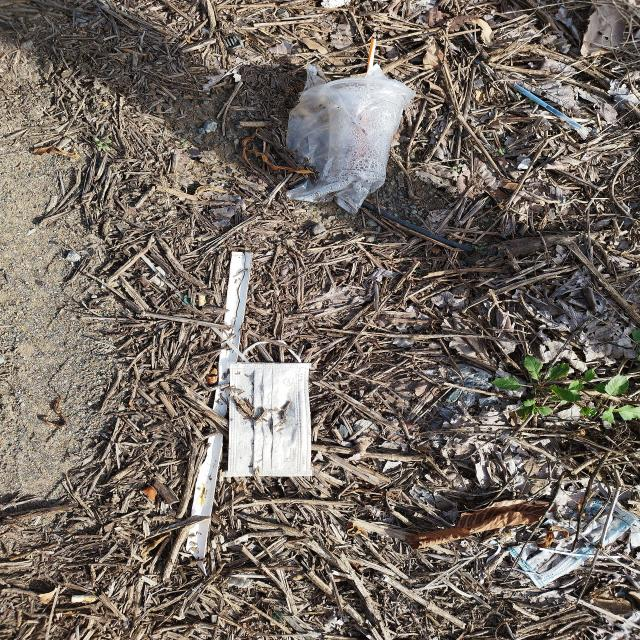mask: (228, 363, 312, 476)
trash bag: (288, 64, 417, 212)
